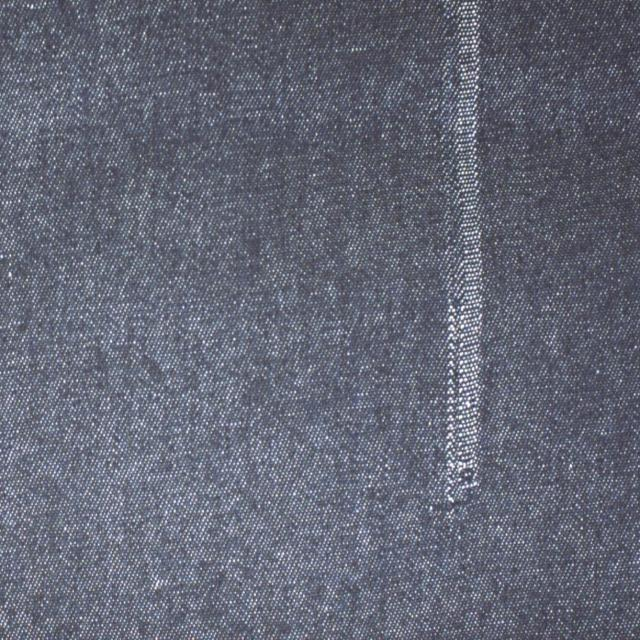Warp_Weft: (442, 0, 487, 499)
